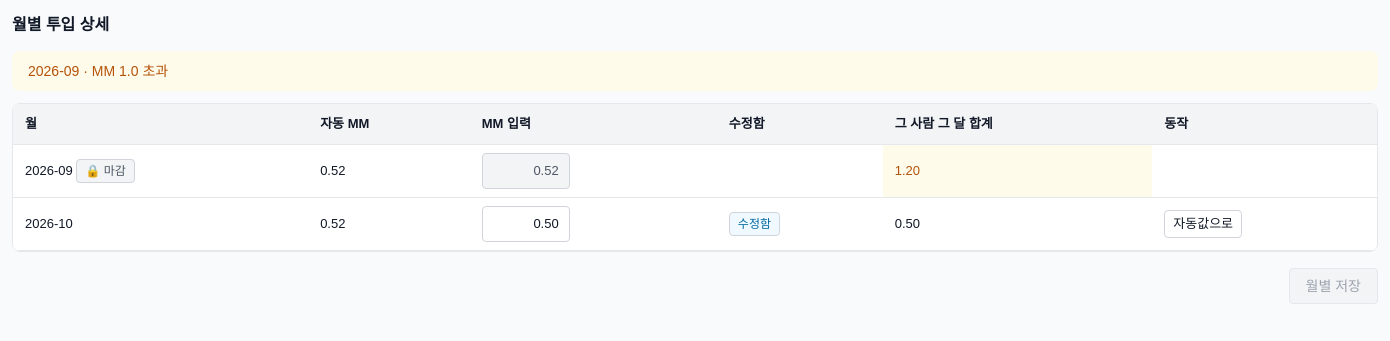
Scenario: assignment monthly MM › rejects invalid MM -0.1 without sending
Replace the text in the field named "2026-10 MM" with "-0.1" at (526,224), box [482,206,570,242]
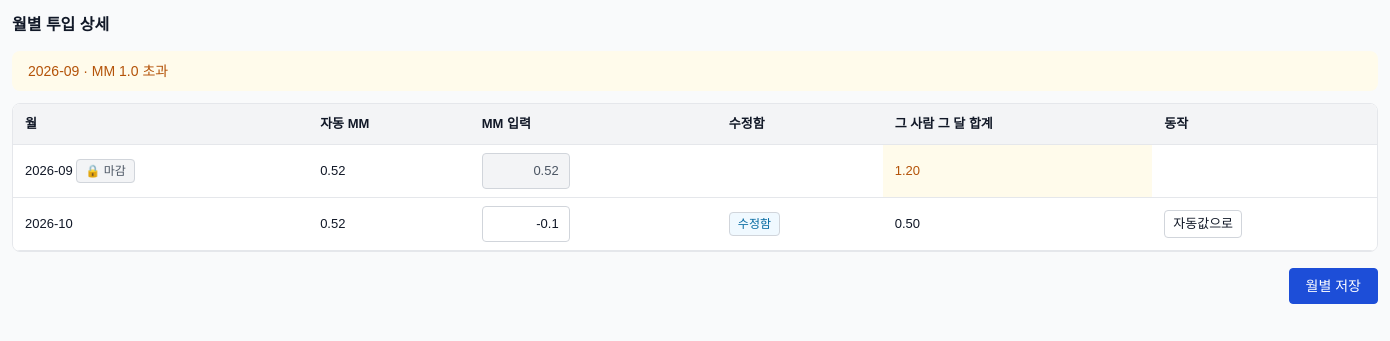
Click the button "월별 저장" at (1333,286), box [1289,268,1378,304]
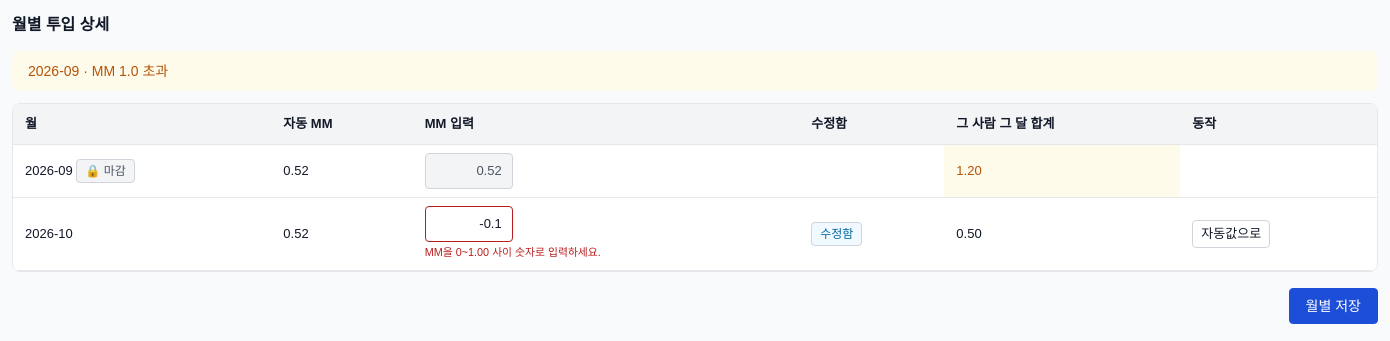
Check: the text "MM을 0~1.00 사이 숫자로 입력하세요." is shown, box [425,246,601,258]
